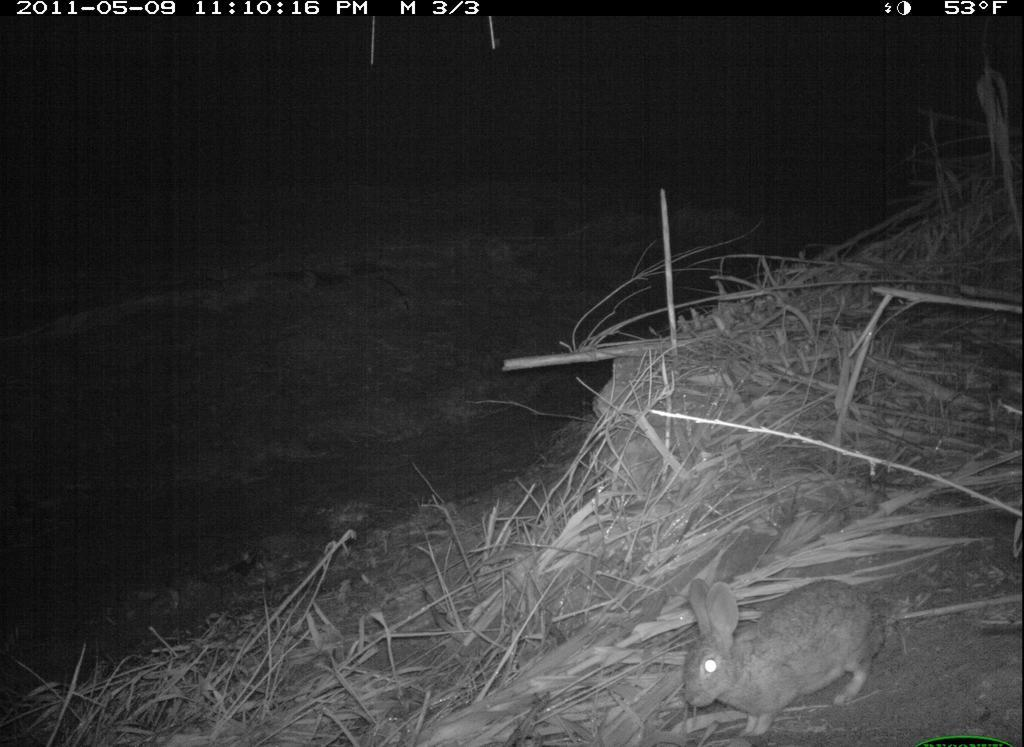rabbit: (676, 575, 899, 739)
